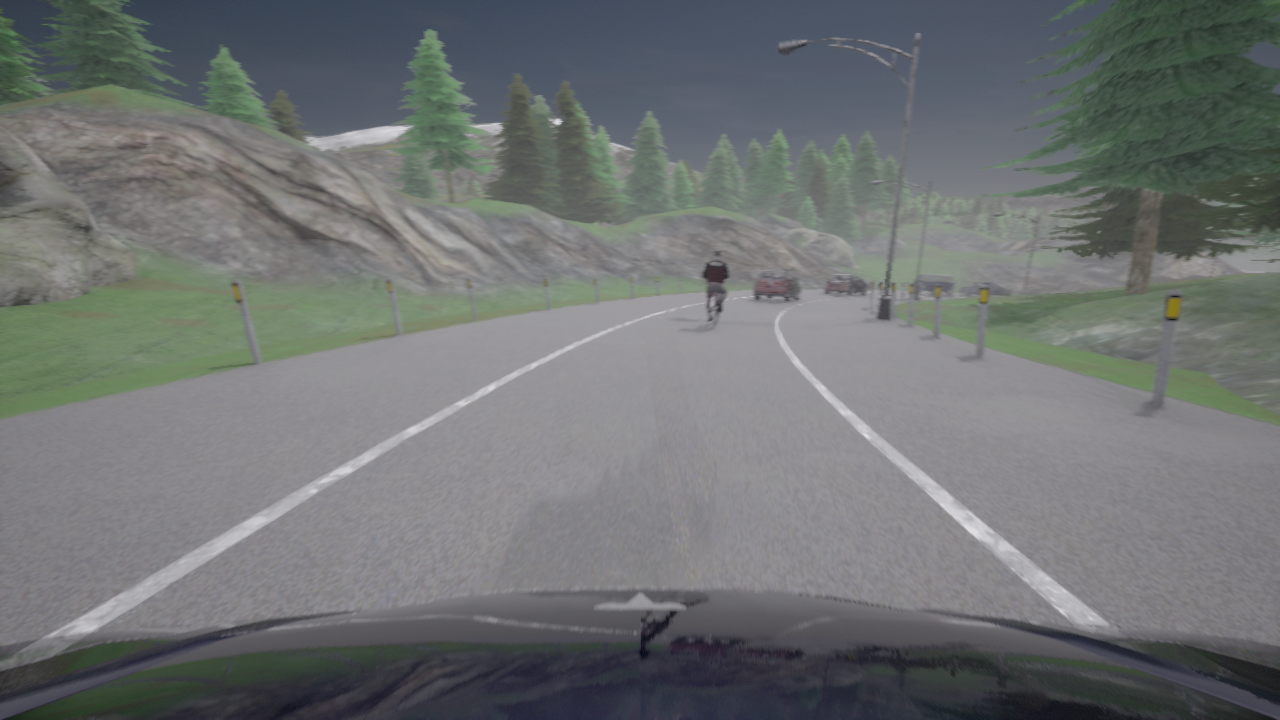cyclist: (0, 588, 1279, 719), (753, 269, 801, 301), (914, 273, 956, 295), (824, 274, 866, 295), (959, 282, 1010, 295), (707, 293, 718, 330)
